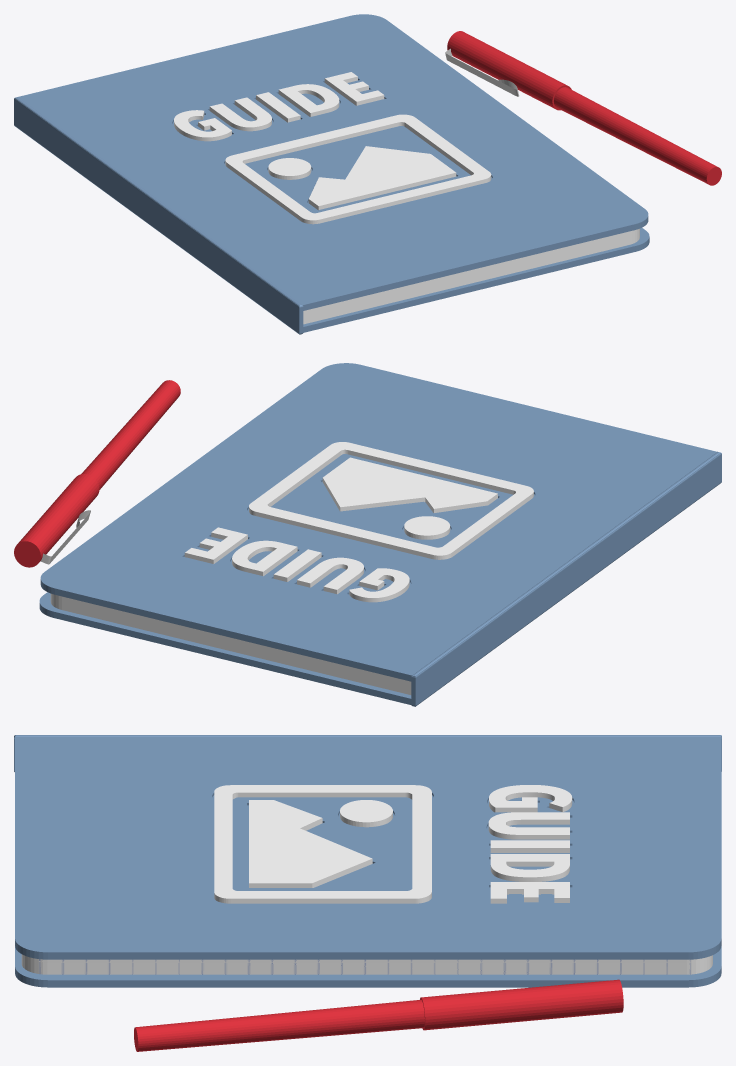
The model's file is guide-book.gltf.
The picture shows the model from 3 angles, top to bottom: view 1: azimuth 30°, elevation 25°; view 2: azimuth 150°, elevation 25°; view 3: azimuth 270°, elevation 25°; orthographic projection. The views are drawn at different scales.
Parts seen in each view (by area): view 1: Top Cover, Spine, Curve, Curve.002, Paper, Handle, Bottom, Cap, Curve.006, Curve.004, Curve.003, Curve.007 (+3 smaller); view 2: Top Cover, Spine, Curve, Curve.002, Paper, Bottom, Cap, Handle, Curve.006, Curve.004, Curve.003, Curve.007 (+2 smaller); view 3: Top Cover, Paper, Bottom, Curve, Handle, Curve.002, Cap, Curve.004, Curve.006, Curve.003, Spine, Curve.007 (+3 smaller).
Boxes of the visible parts, x1=… form: Top Cover: x1=15, y1=14, x2=648, y2=310; Spine: x1=14, y1=97, x2=303, y2=334; Curve: x1=225, y1=114, x2=491, y2=224; Curve.002: x1=308, y1=146, x2=456, y2=210; Paper: x1=303, y1=228, x2=639, y2=324; Handle: x1=554, y1=87, x2=721, y2=185; Bottom: x1=303, y1=228, x2=649, y2=332; Cap: x1=447, y1=31, x2=571, y2=110; Curve.006: x1=278, y1=84, x2=339, y2=116; Curve.004: x1=209, y1=97, x2=271, y2=131; Curve.003: x1=174, y1=110, x2=231, y2=141; Curve.007: x1=324, y1=72, x2=384, y2=105; Top Cover: x1=40, y1=363, x2=720, y2=681; Spine: x1=411, y1=452, x2=721, y2=706; Curve: x1=249, y1=442, x2=533, y2=559; Curve.002: x1=322, y1=457, x2=497, y2=512; Paper: x1=50, y1=593, x2=411, y2=694; Bottom: x1=39, y1=592, x2=411, y2=704; Cap: x1=14, y1=474, x2=99, y2=567; Handle: x1=81, y1=380, x2=180, y2=489; Curve.006: x1=232, y1=540, x2=297, y2=576; Curve.004: x1=297, y1=557, x2=363, y2=594; Curve.003: x1=349, y1=568, x2=409, y2=602; Curve.007: x1=184, y1=527, x2=247, y2=563; Top Cover: x1=15, y1=735, x2=721, y2=959; Paper: x1=21, y1=954, x2=712, y2=974; Bottom: x1=15, y1=946, x2=721, y2=987; Curve: x1=214, y1=785, x2=431, y2=903; Handle: x1=134, y1=999, x2=424, y2=1051; Curve.002: x1=249, y1=800, x2=372, y2=887; Cap: x1=420, y1=979, x2=623, y2=1030; Curve.004: x1=488, y1=812, x2=569, y2=839; Curve.006: x1=490, y1=854, x2=569, y2=881; Curve.003: x1=489, y1=785, x2=572, y2=812; Spine: x1=14, y1=735, x2=721, y2=771; Curve.007: x1=490, y1=882, x2=569, y2=903.
Size of the model in its own units: 6.55 by 0.4268 by 6.85.
Materials: 5 (1 with a texture image).
